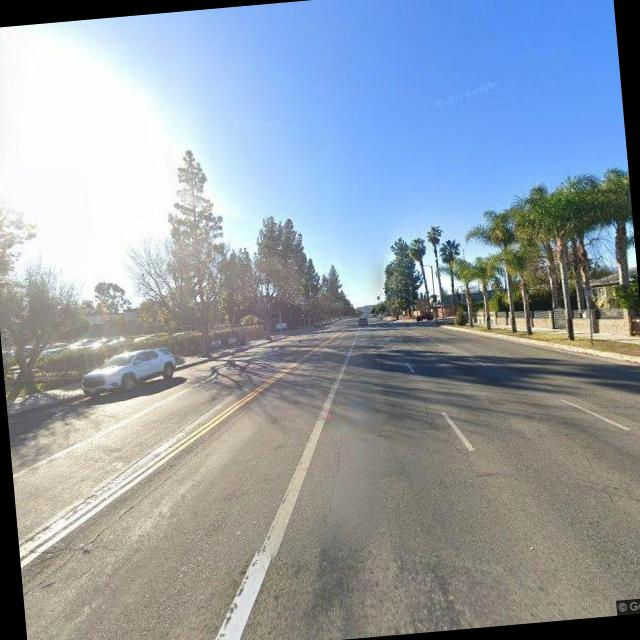pothole: (31, 426, 214, 576)
